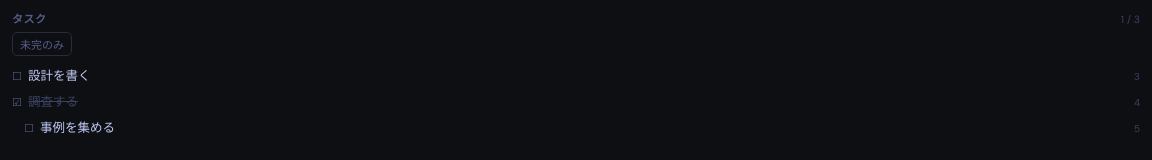
it: TasksWidget › 未完のみに絞り込める
Click the button with test id "tasks-widget-open-only" at (42, 44), box [12,32,72,56]
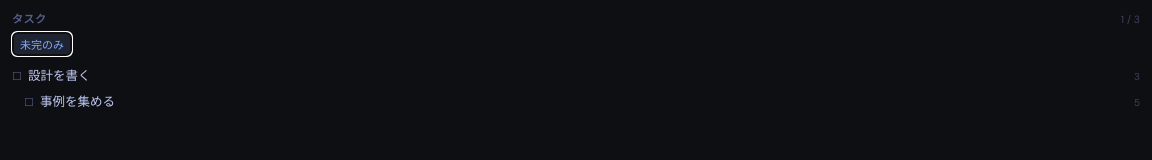
Now the number of buttons with test id "tasks-widget-item" is 2, box [4,62,1148,87]; [4,88,1148,113]
